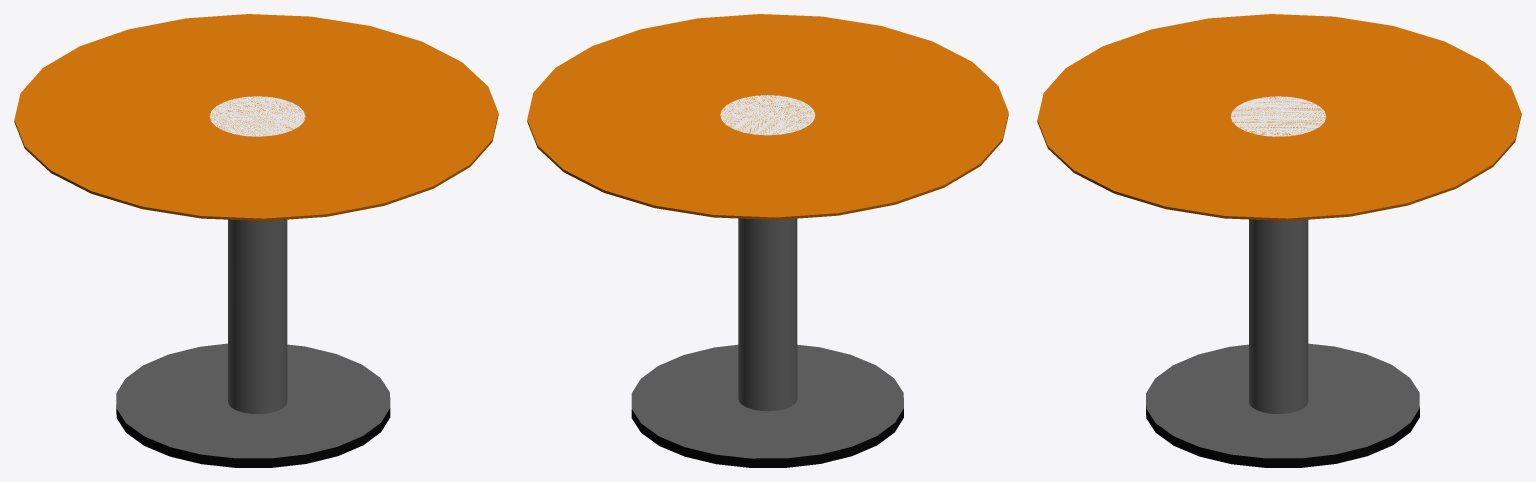
Rendered from shesu.gltf.
The picture shows the model from 3 angles, left to right: view 1: azimuth 30°, elevation 25°; view 2: azimuth 150°, elevation 25°; view 3: azimuth 270°, elevation 25°; orthographic projection.
Parts seen in each view (by area): view 1: SketchUp.007, SketchUp.005, SketchUp.001, SketchUp.003, SketchUp.006, SketchUp.009; view 2: SketchUp.007, SketchUp.005, SketchUp.001, SketchUp.003, SketchUp.006, SketchUp.009; view 3: SketchUp.007, SketchUp.005, SketchUp.001, SketchUp.003, SketchUp.006, SketchUp.009.
Part boxes in pixels (left/top/right/bottom): SketchUp.007: left=14, top=14, right=498, bottom=218; SketchUp.005: left=116, top=343, right=390, bottom=458; SketchUp.001: left=228, top=219, right=287, bottom=414; SketchUp.003: left=209, top=96, right=305, bottom=136; SketchUp.006: left=116, top=405, right=390, bottom=467; SketchUp.009: left=14, top=113, right=498, bottom=221; SketchUp.007: left=527, top=14, right=1008, bottom=217; SketchUp.005: left=631, top=344, right=903, bottom=458; SketchUp.001: left=738, top=218, right=797, bottom=411; SketchUp.003: left=720, top=95, right=815, bottom=135; SketchUp.006: left=631, top=408, right=903, bottom=467; SketchUp.009: left=527, top=114, right=1008, bottom=219; SketchUp.007: left=1037, top=14, right=1521, bottom=218; SketchUp.005: left=1146, top=343, right=1419, bottom=458; SketchUp.001: left=1249, top=219, right=1308, bottom=413; SketchUp.003: left=1230, top=96, right=1326, bottom=136; SketchUp.006: left=1146, top=406, right=1419, bottom=467; SketchUp.009: left=1037, top=113, right=1521, bottom=220.
Bounding box in the file's own units: 4.09 × 2.75 × 4.09.
